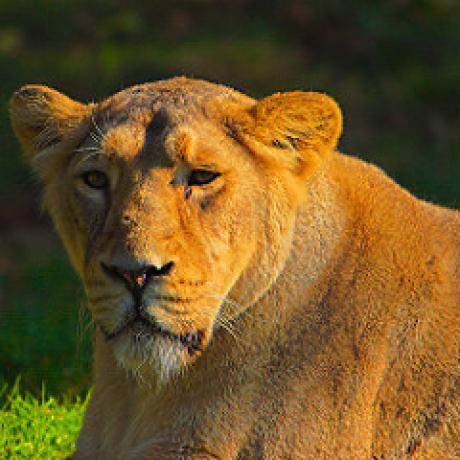Lion: (7, 75, 459, 460)
